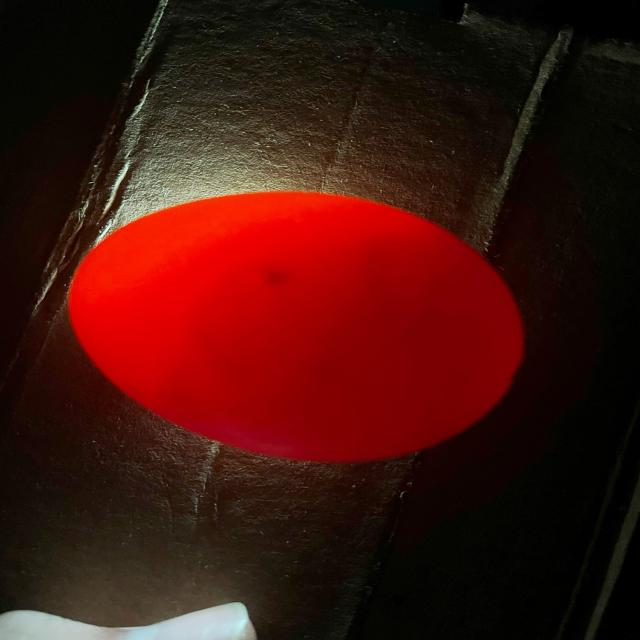fertile: (68, 191, 523, 462)
